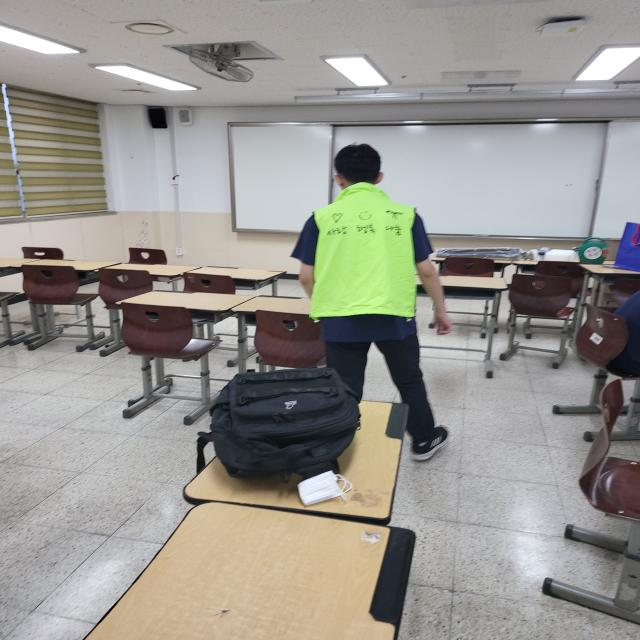weston_spy: (301, 185, 442, 330)
